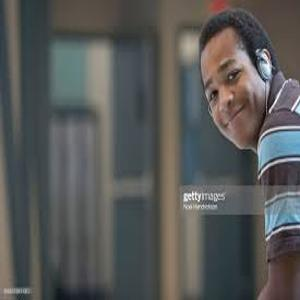Headphones: (196, 42, 281, 92)
